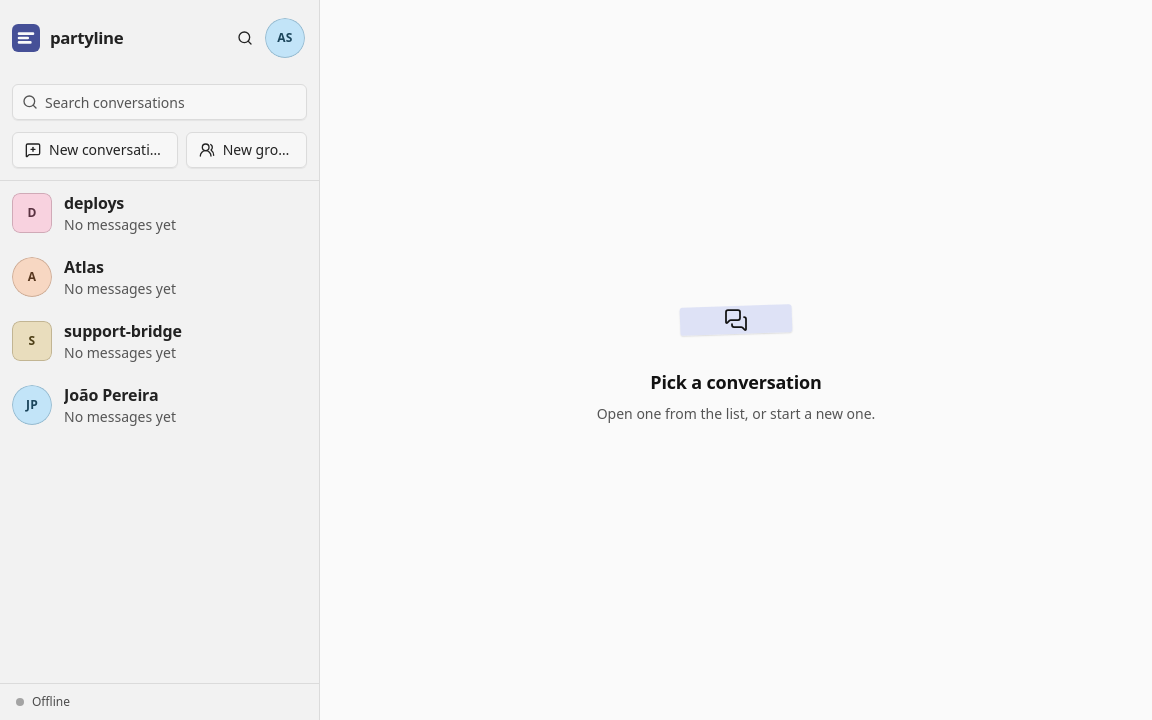
Test: search (LAY-03) › says when nothing matches and offers the whole list back
Type "zed" into the search field labelled "Search conversations". click: (160, 102)
box: [12,84,307,120]
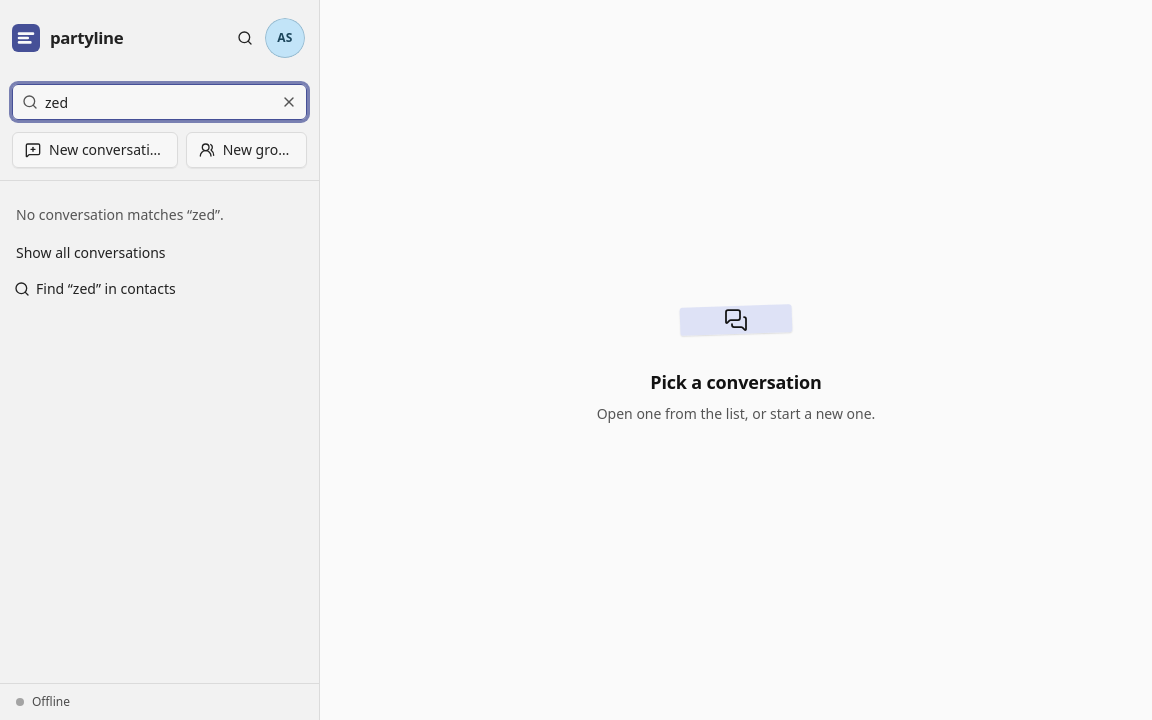
Expected: the text "No conversation matches “zed”." is shown, [16,205,224,224]
Click the button "Show all conversations". click: (91, 253)
box: [4,237,178,269]
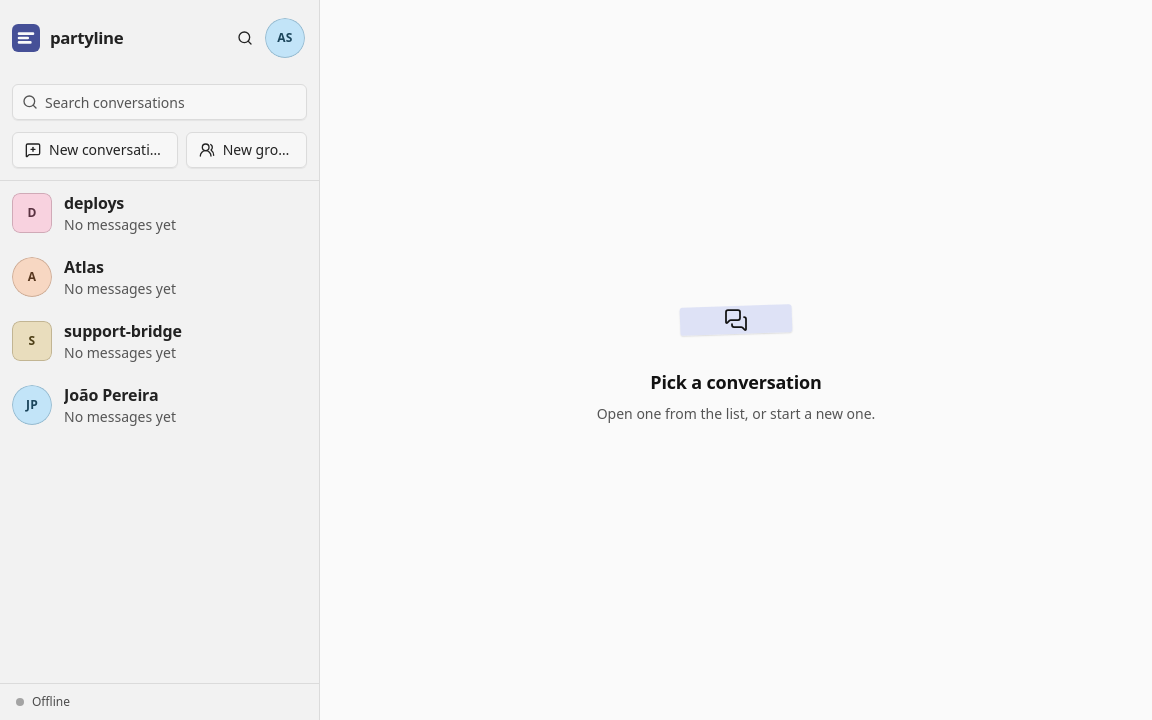
Expected: the list named "Conversations" is shown, [12,192,182,426]
Expected: the search field labelled "Search conversations" is empty, [12,84,307,120]
